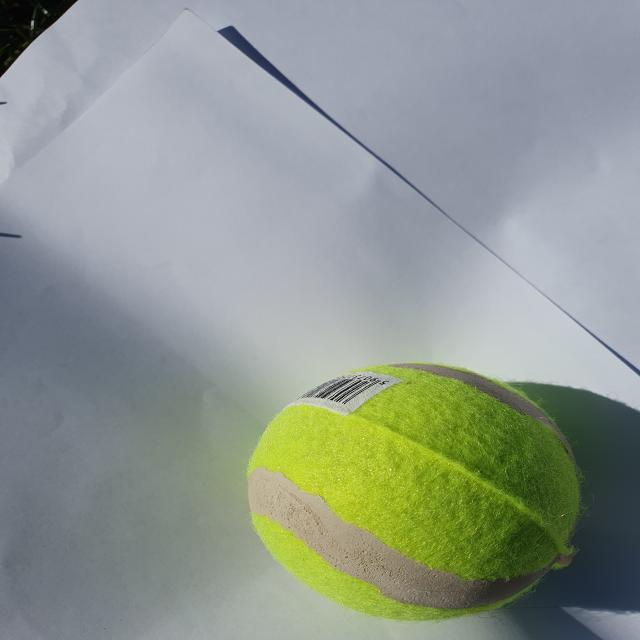green: (247, 362, 581, 622)
